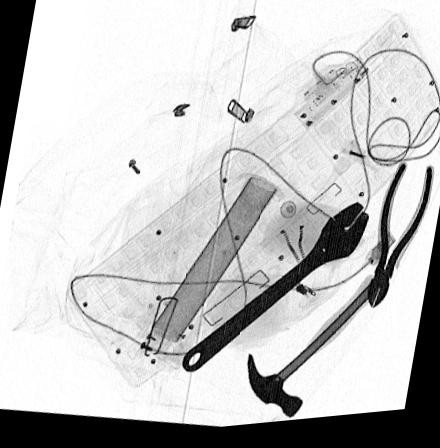Hammer: (244, 281, 387, 426)
Pliers: (367, 165, 434, 317)
Wrench: (178, 209, 371, 379)
